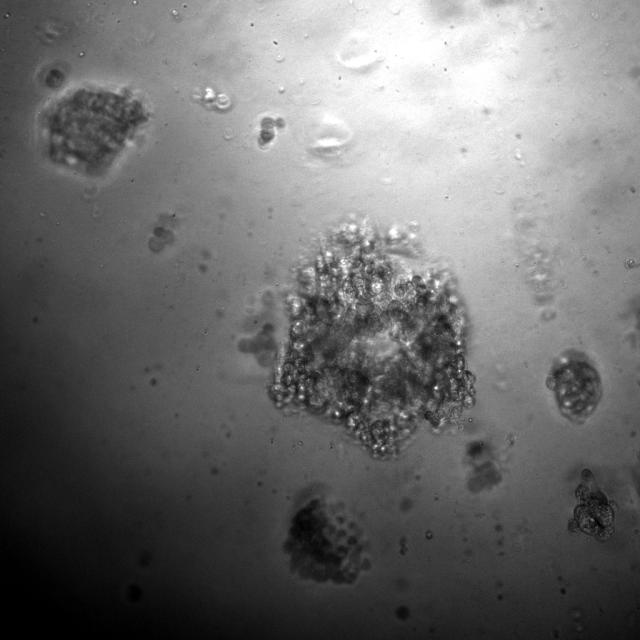organoid: (239, 225, 474, 457), (36, 85, 149, 176), (284, 495, 368, 584), (546, 349, 602, 423), (568, 468, 617, 541), (467, 440, 501, 492), (34, 59, 69, 90), (148, 215, 175, 252), (194, 86, 232, 111), (259, 116, 285, 146)
